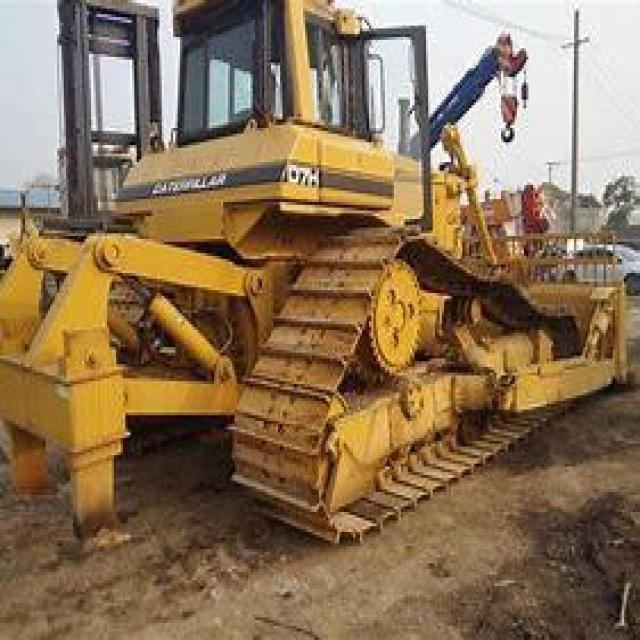Bulldozer: (0, 0, 631, 549)
